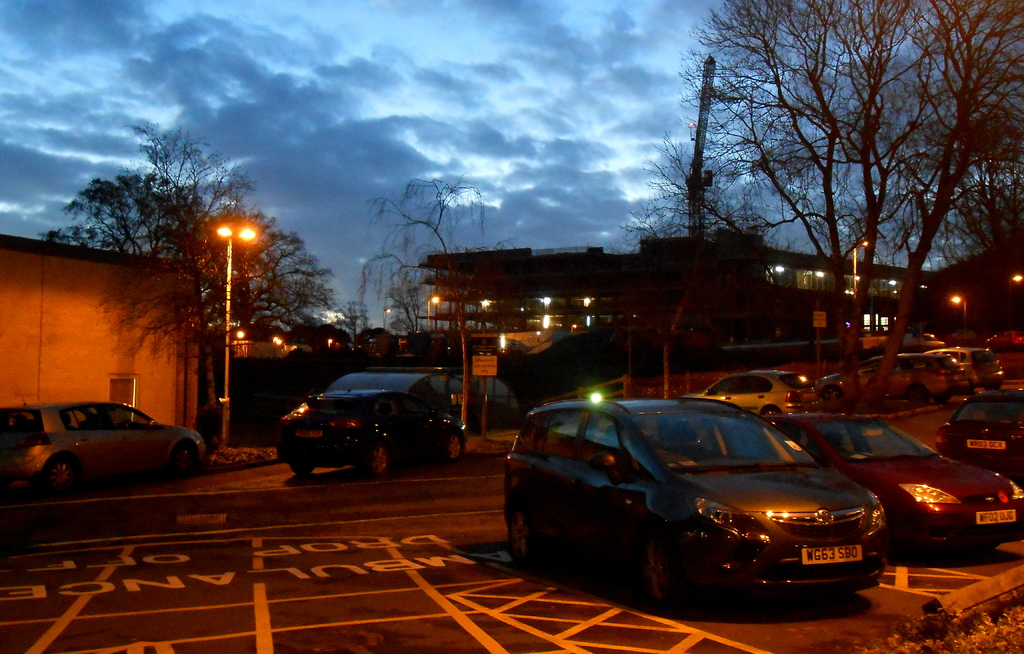Car: (500, 334, 1023, 614), (269, 362, 460, 481), (0, 397, 213, 497)
